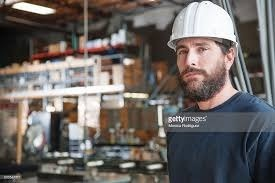helmet: (166, 1, 242, 47)
person with partial safety: (163, 1, 273, 166)
